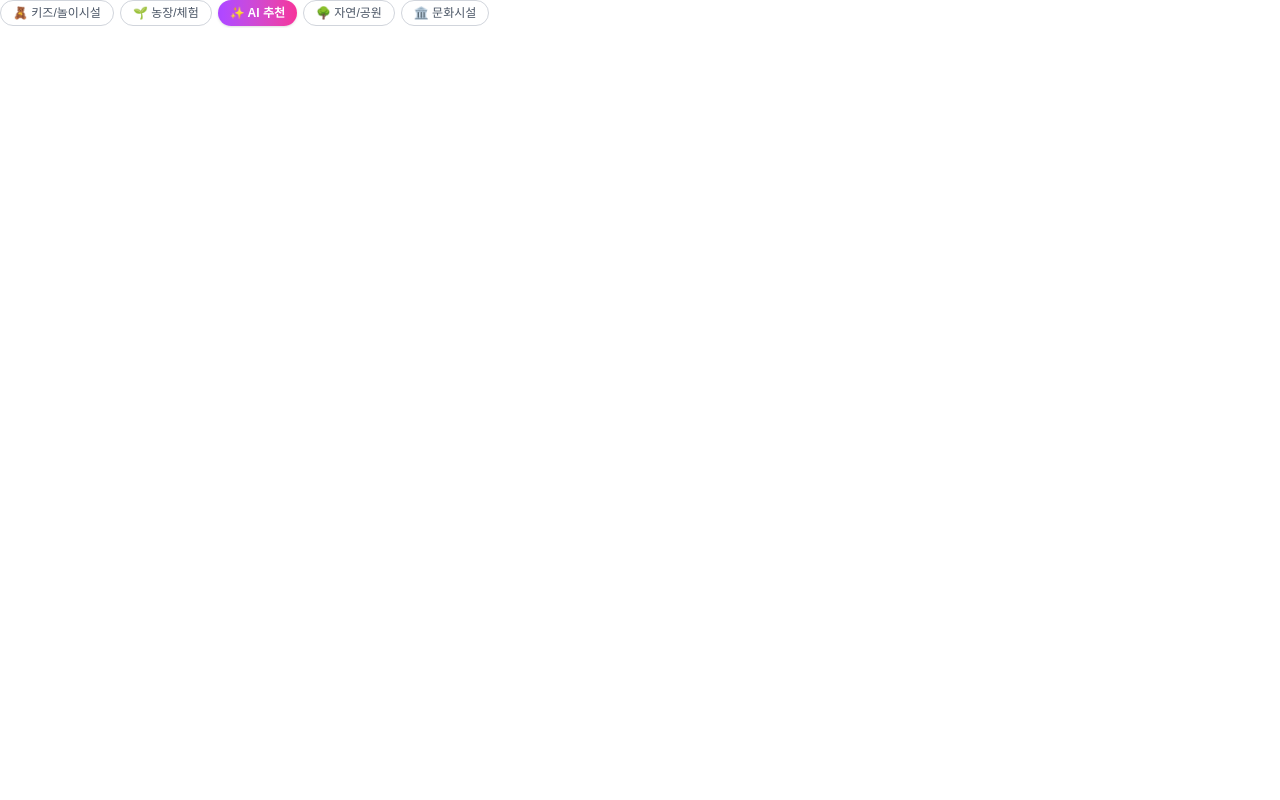
it: SpotCategoryFilter › 농장/체험 대분류 바텀시트에는 체험농장·농원/휴양마을이 노출된다
The width and height of the screenshot is (1280, 800).
Click the button "🌱 농장/체험" at (166, 13), box [120,0,212,26]
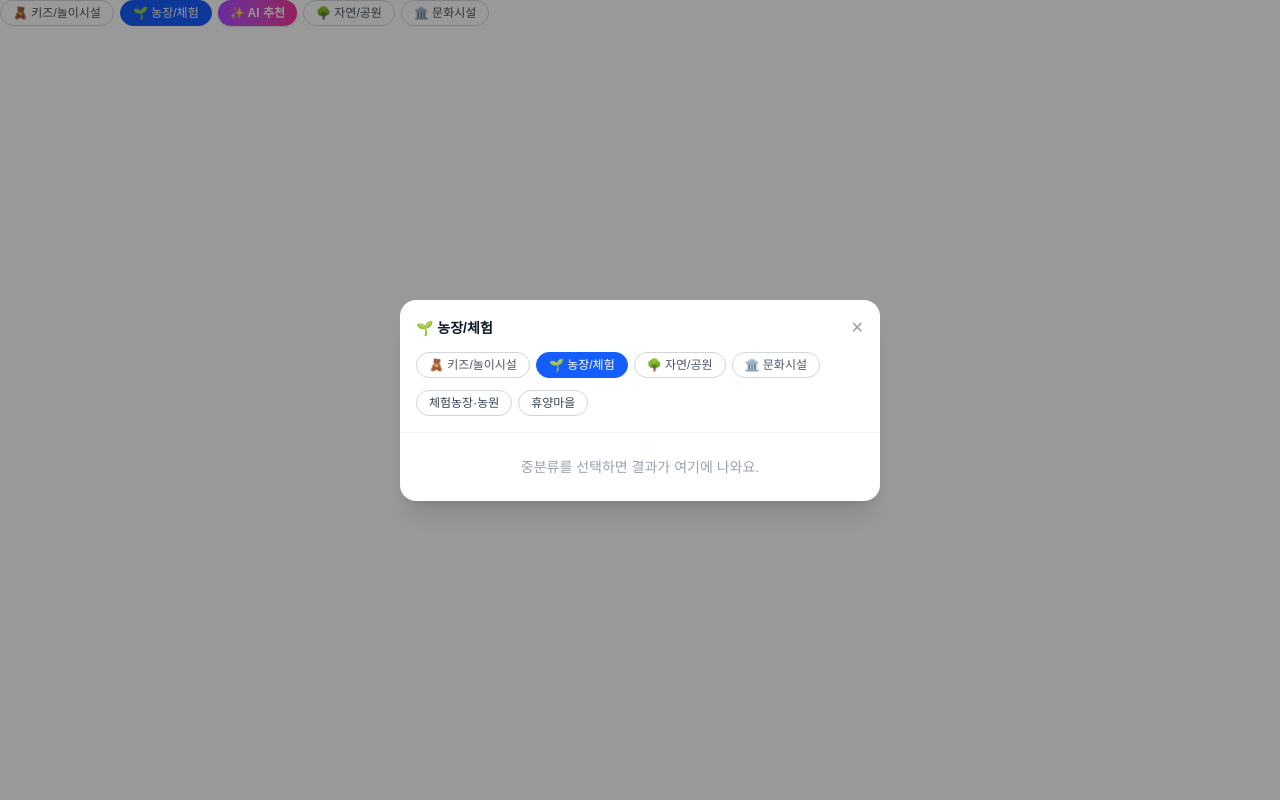
Result: the button "체험농장·농원" is shown at [416,390,512,416]
Result: the button "휴양마을" is shown at [518,390,588,416]
